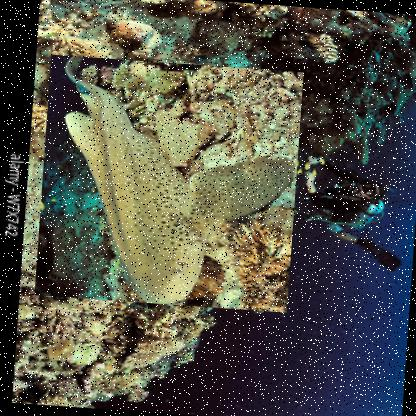zebra_shark: (34, 53, 304, 312)
